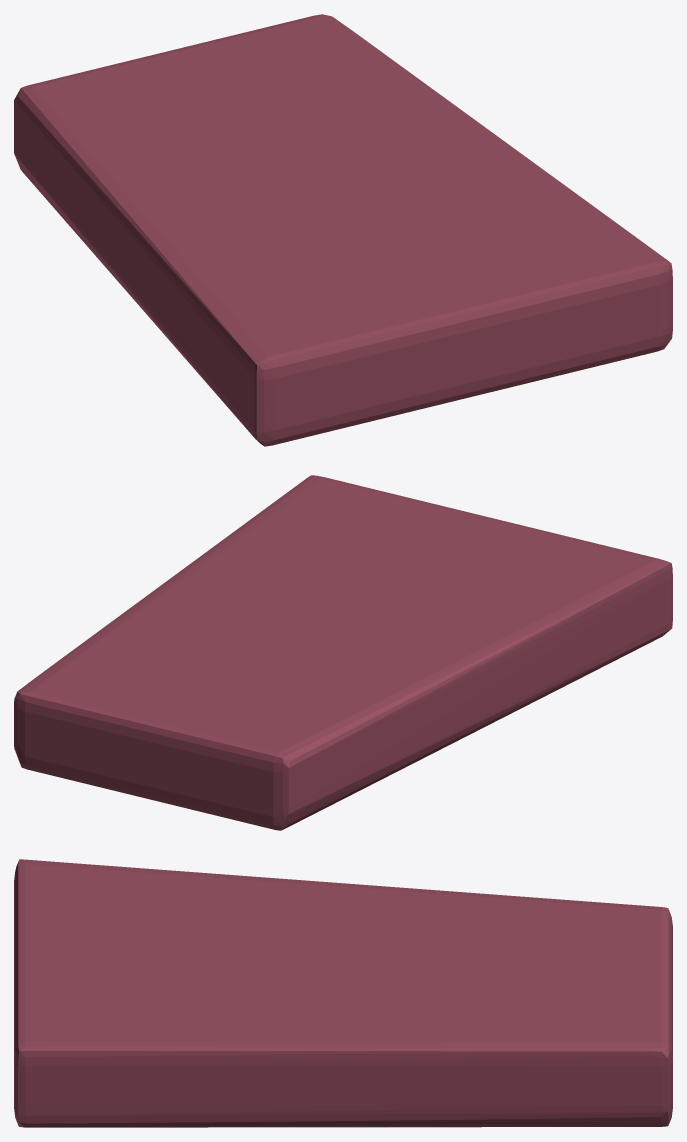
File: left_hip_pitch_link_part_13.obj
3 renders of one model, top to bottom at view 1: azimuth 30°, elevation 25°; view 2: azimuth 150°, elevation 25°; view 3: azimuth 270°, elevation 25°, orthographic. The views are drawn at different scales.
Size of the model in its own units: 0.0895 by 0.0179 by 0.129.
